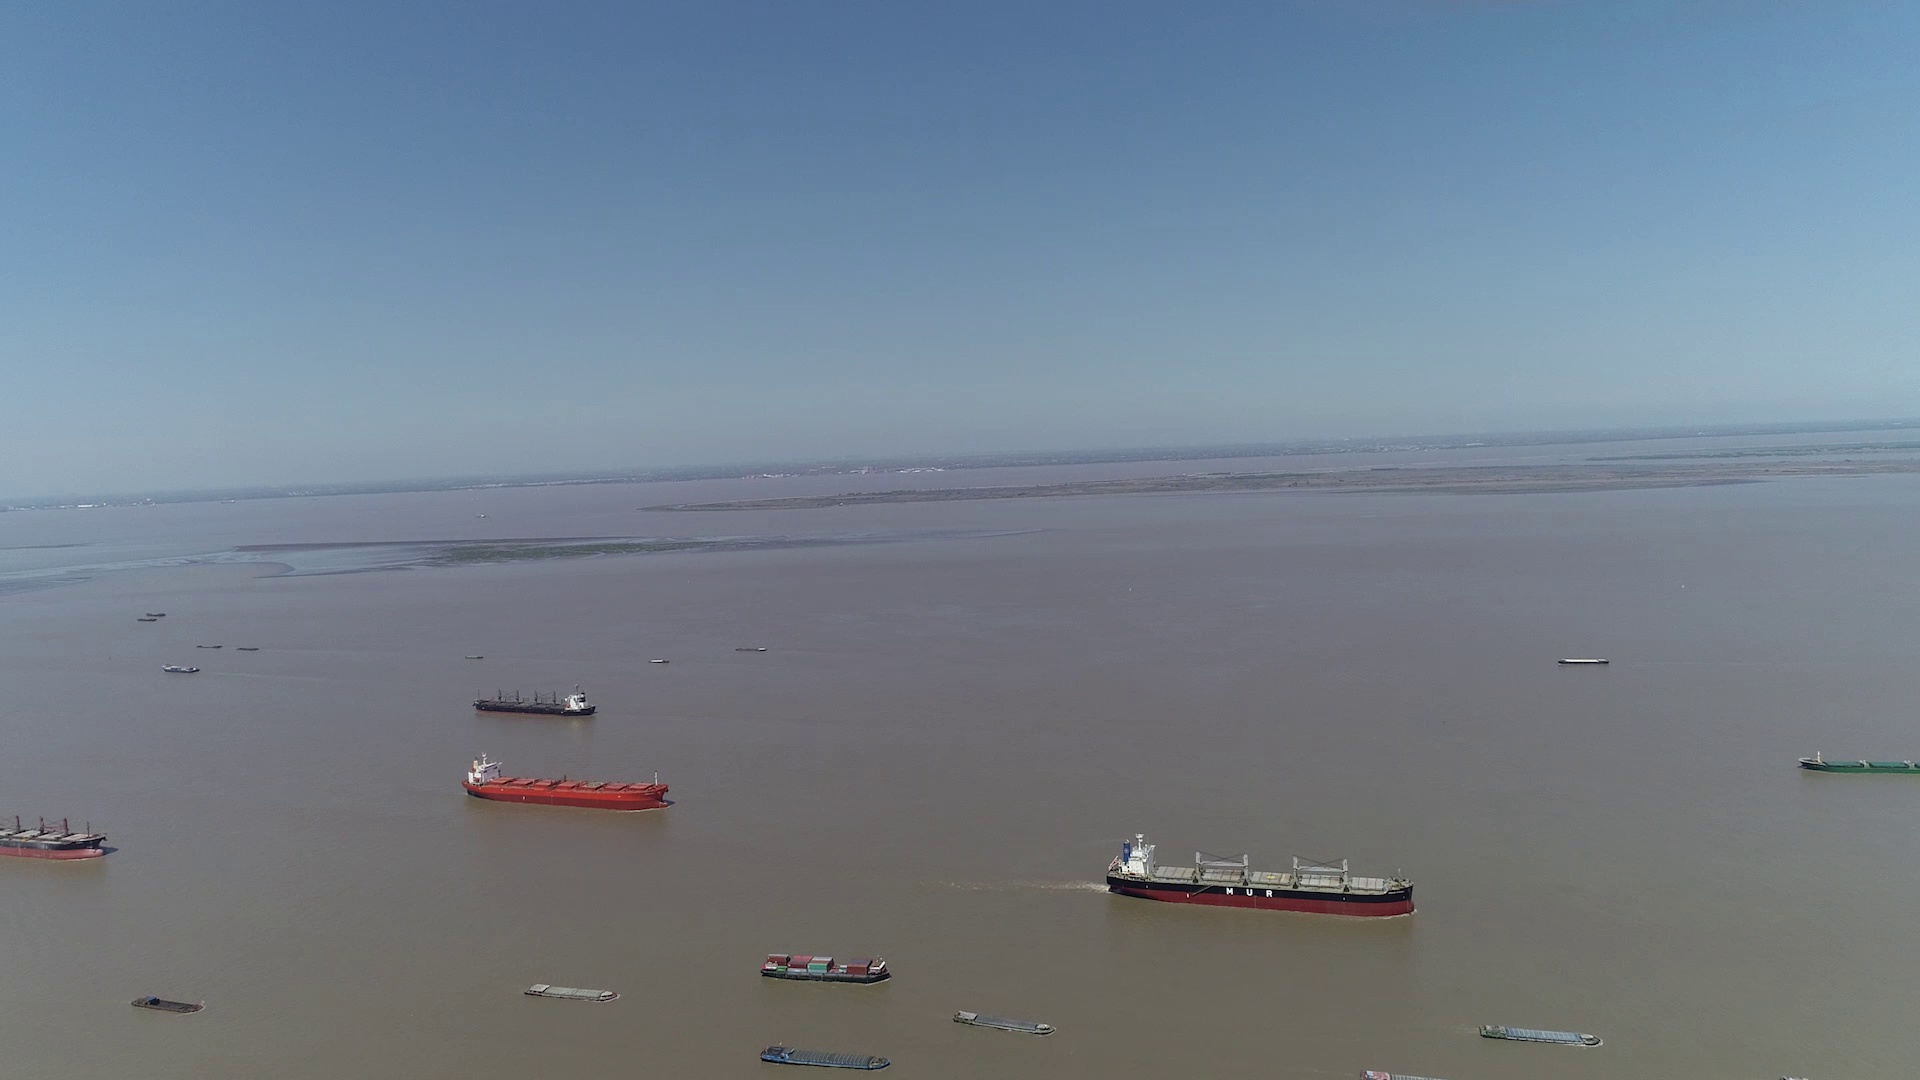ship: (1110, 833, 1416, 916), (463, 750, 671, 810), (3, 800, 109, 860), (760, 949, 893, 982), (473, 683, 595, 717), (757, 1044, 898, 1072), (1797, 750, 1920, 774), (1478, 1022, 1598, 1046), (953, 1009, 1055, 1036), (524, 981, 618, 1002), (132, 996, 204, 1014), (1555, 657, 1607, 665), (164, 663, 200, 673)
